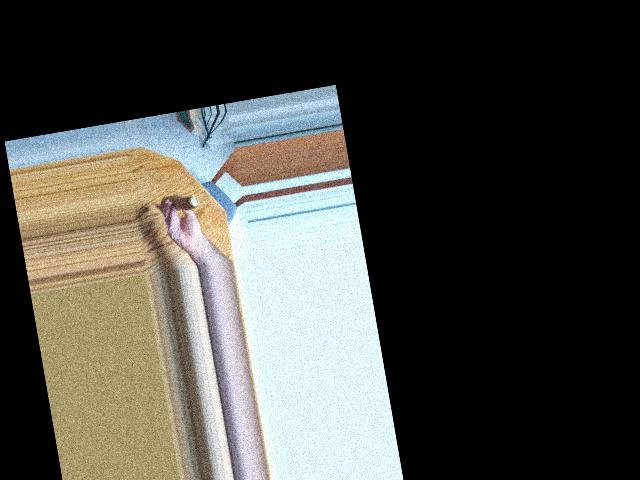sweet_potato: (159, 191, 195, 209)
